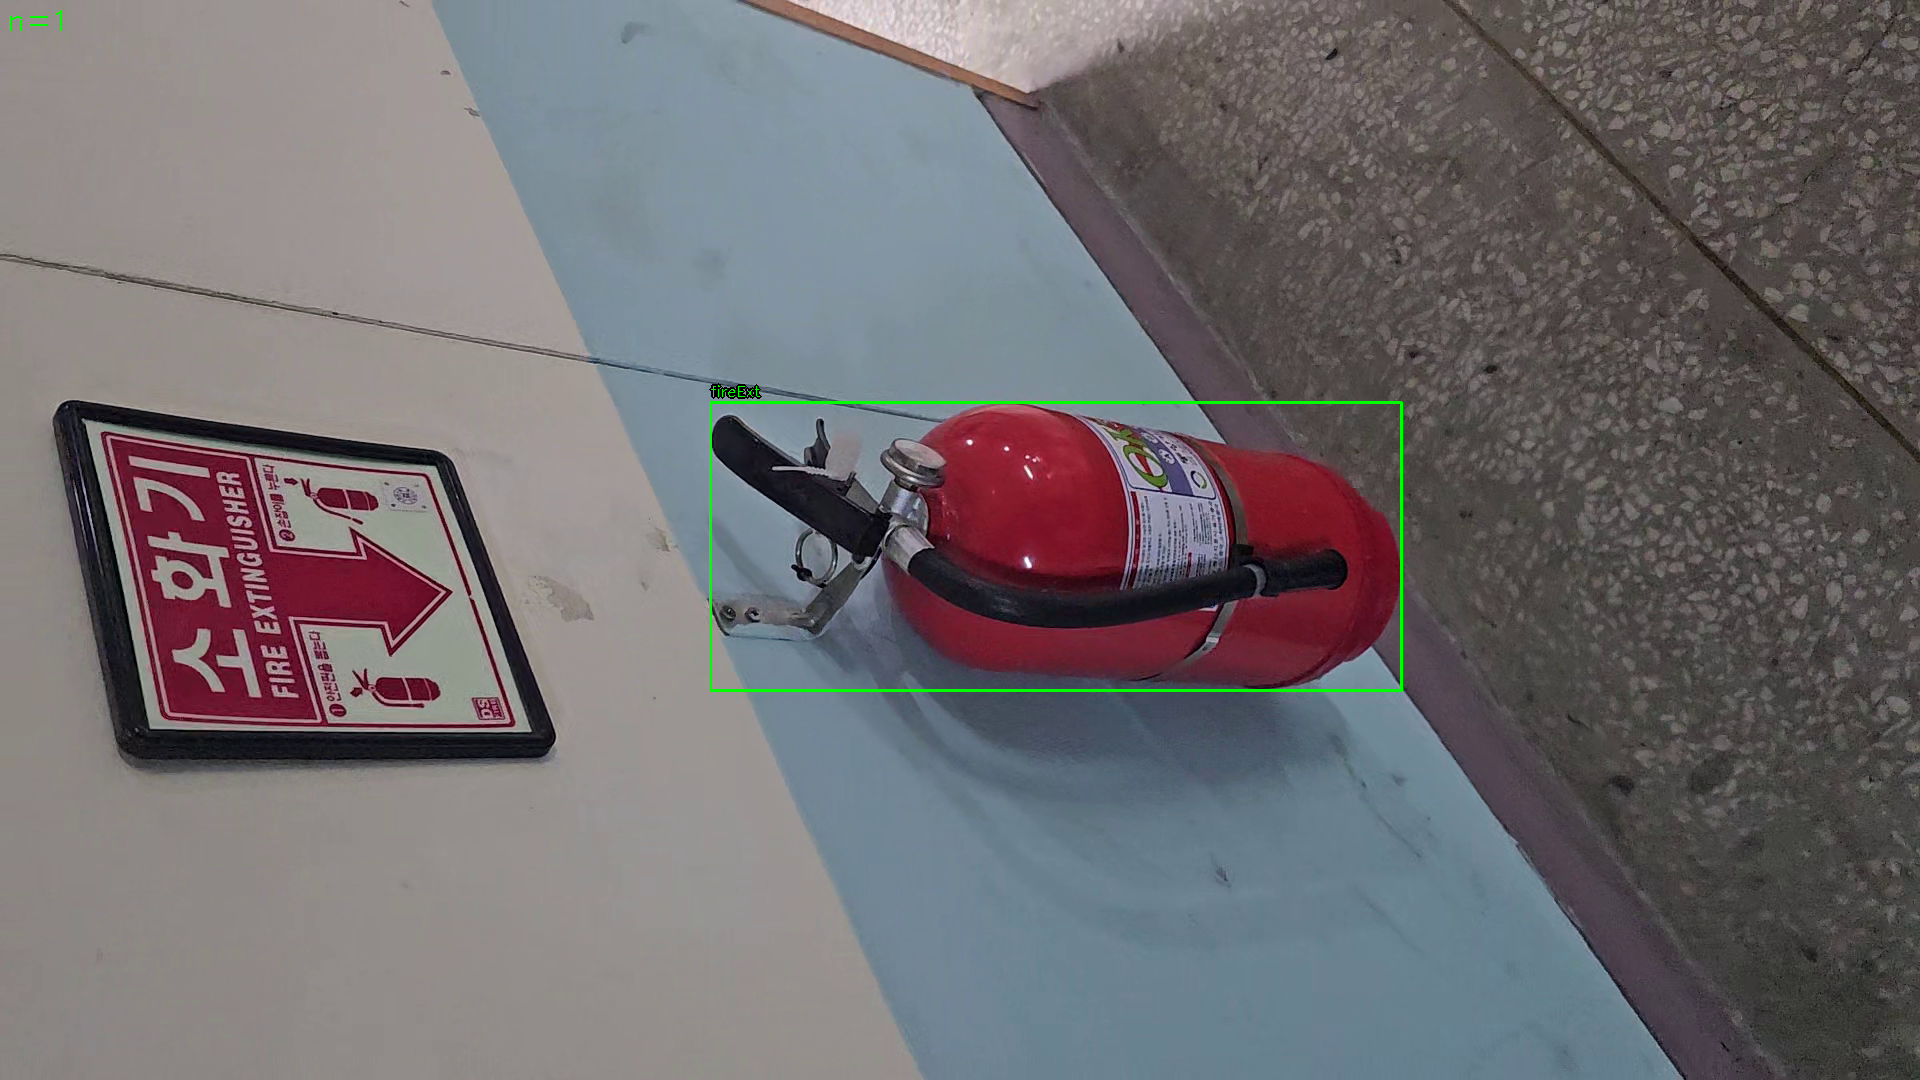lane: (709, 402, 1402, 691)
